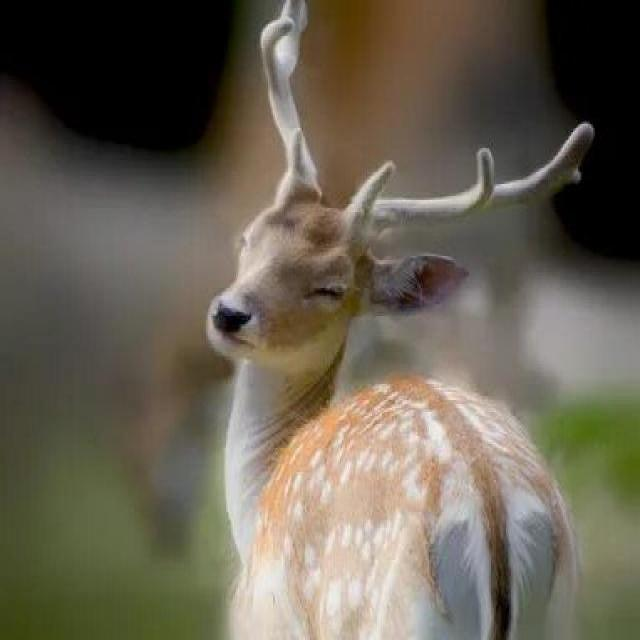deer: (112, 8, 618, 640)
